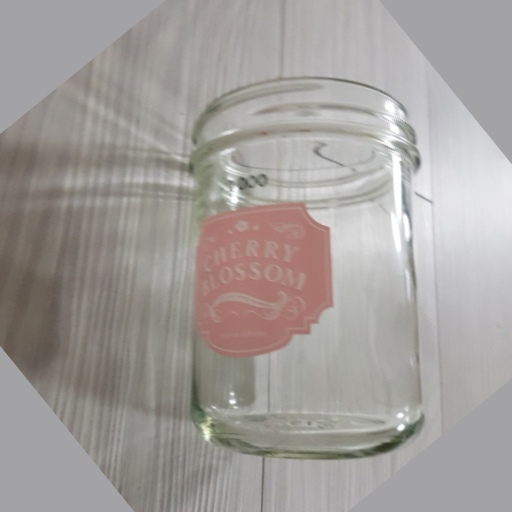Glass_5: (177, 81, 428, 462)
